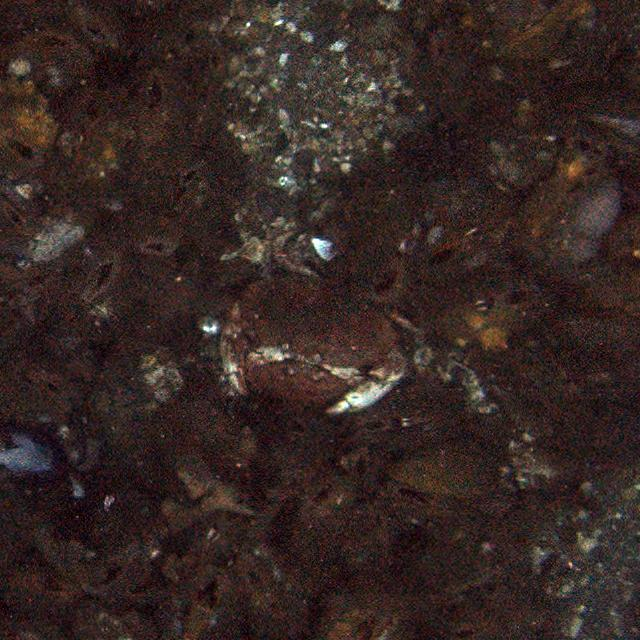crab: (225, 252, 416, 412)
